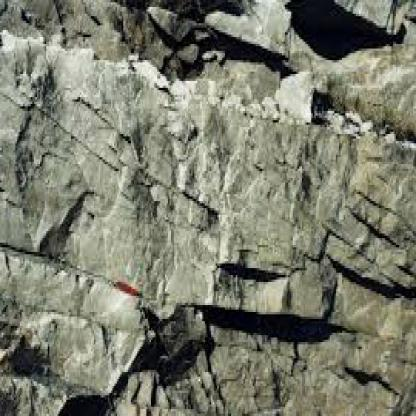Metamorphic_Quartize: (1, 25, 354, 344)
